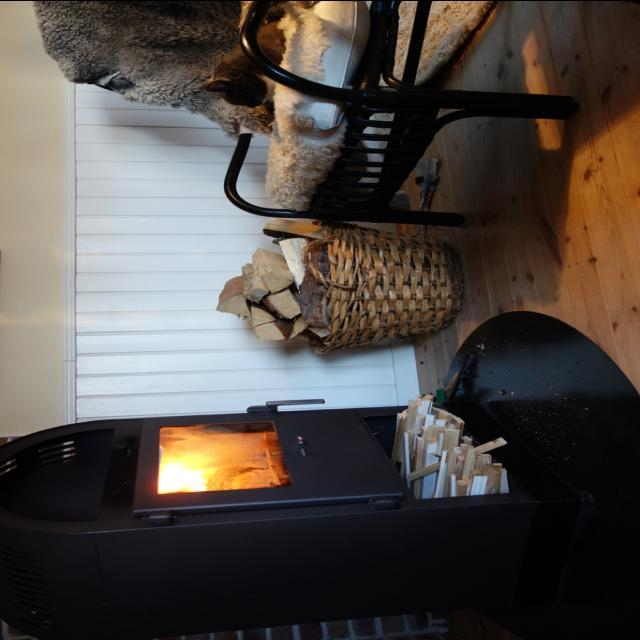Fire: (148, 426, 286, 494)
